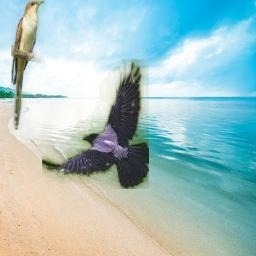Crow: (42, 59, 149, 189)
Cuckoo: (11, 0, 45, 130)
